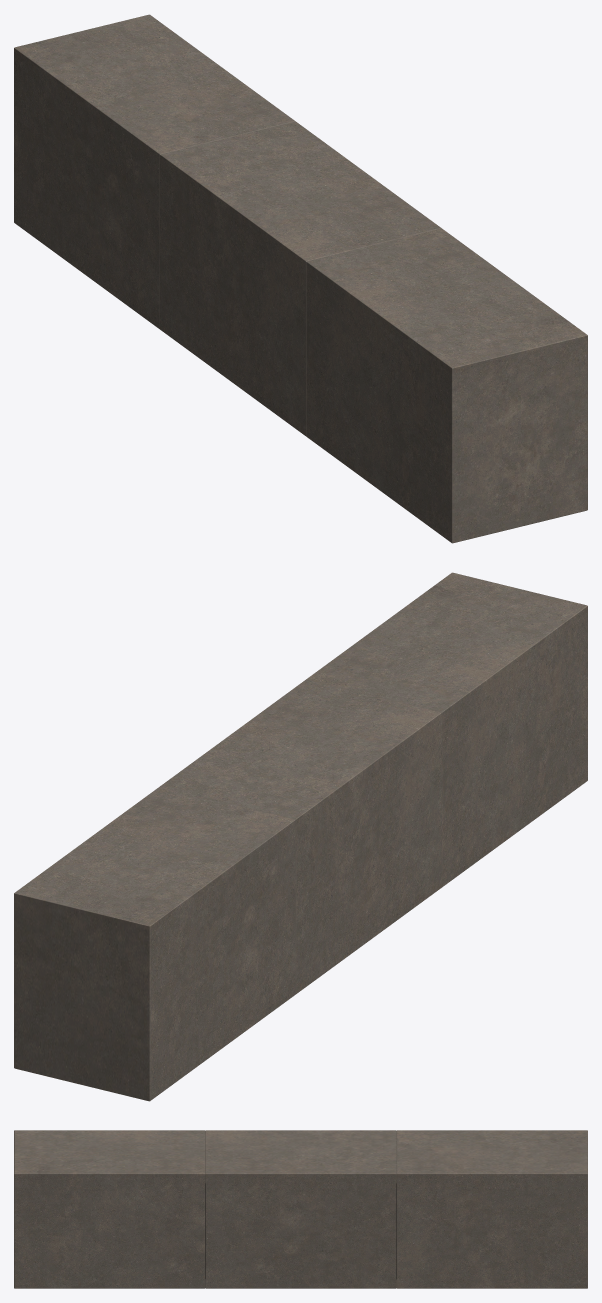
The model's file is cP_Bench22.dae.
3 renders of one model, top to bottom at view 1: azimuth 30°, elevation 25°; view 2: azimuth 150°, elevation 25°; view 3: azimuth 270°, elevation 25°, orthographic. The views are drawn at different scales.
Visible parts, largest first — view 1: cP_Bench22.001; view 2: cP_Bench22.001; view 3: cP_Bench22.001.
Boxes of the visible parts, x1=… form: cP_Bench22.001: x1=14, y1=14, x2=587, y2=543; cP_Bench22.001: x1=14, y1=572, x2=587, y2=1101; cP_Bench22.001: x1=14, y1=1130, x2=587, y2=1288.
Bounding box in the file's own units: 0.4495 × 2.5 × 0.5535.
